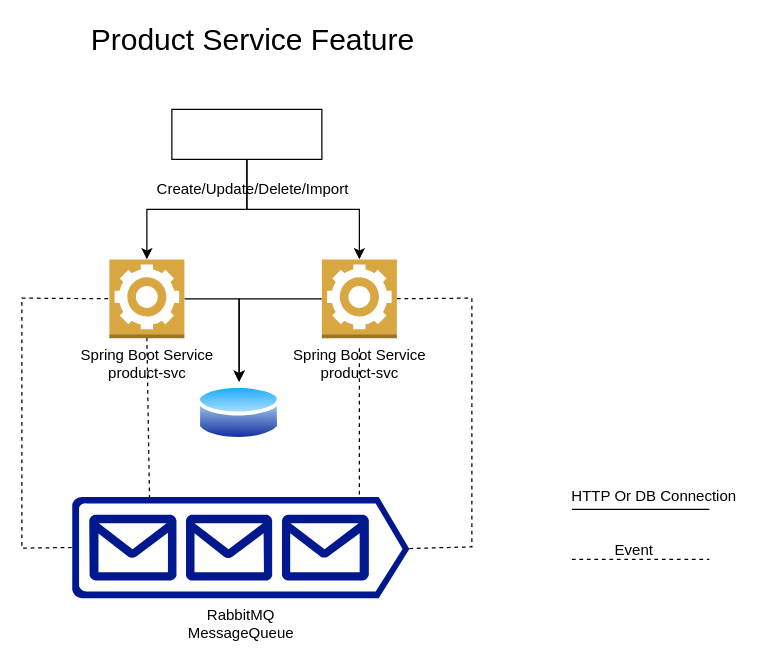
Some shapes in this 764 by 664 pixel diagram are drawn without their labels. Here are the shapes that lost their labels. From the top down, the centre of each, then its label:
At [246,133]: "User".
At [238,412]: "MariaDB".
